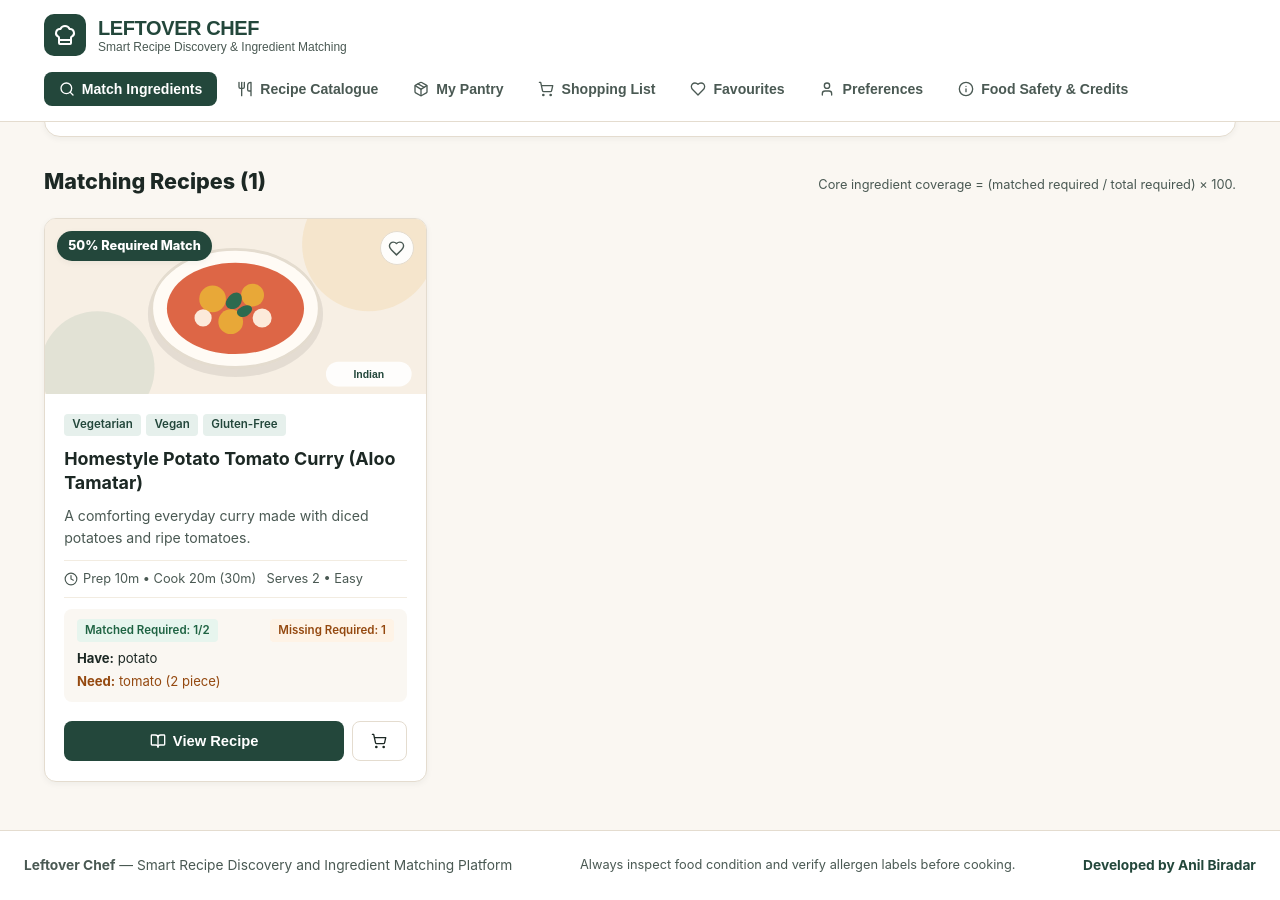
Test: Leftover Chef Frontend Verification Suite (TC-53 to TC-60) › TC-56: Clearly displays matching and missing required ingredients on recipe cards and detail modal
(page scrolled)
Expected: the text "50% Required Match" is shown, [57,231,212,261]
Expected: the text "Matched Required: 1/2" is shown, [77,619,218,642]
Click the button "View Recipe" at (204, 741), box [64,721,344,761]
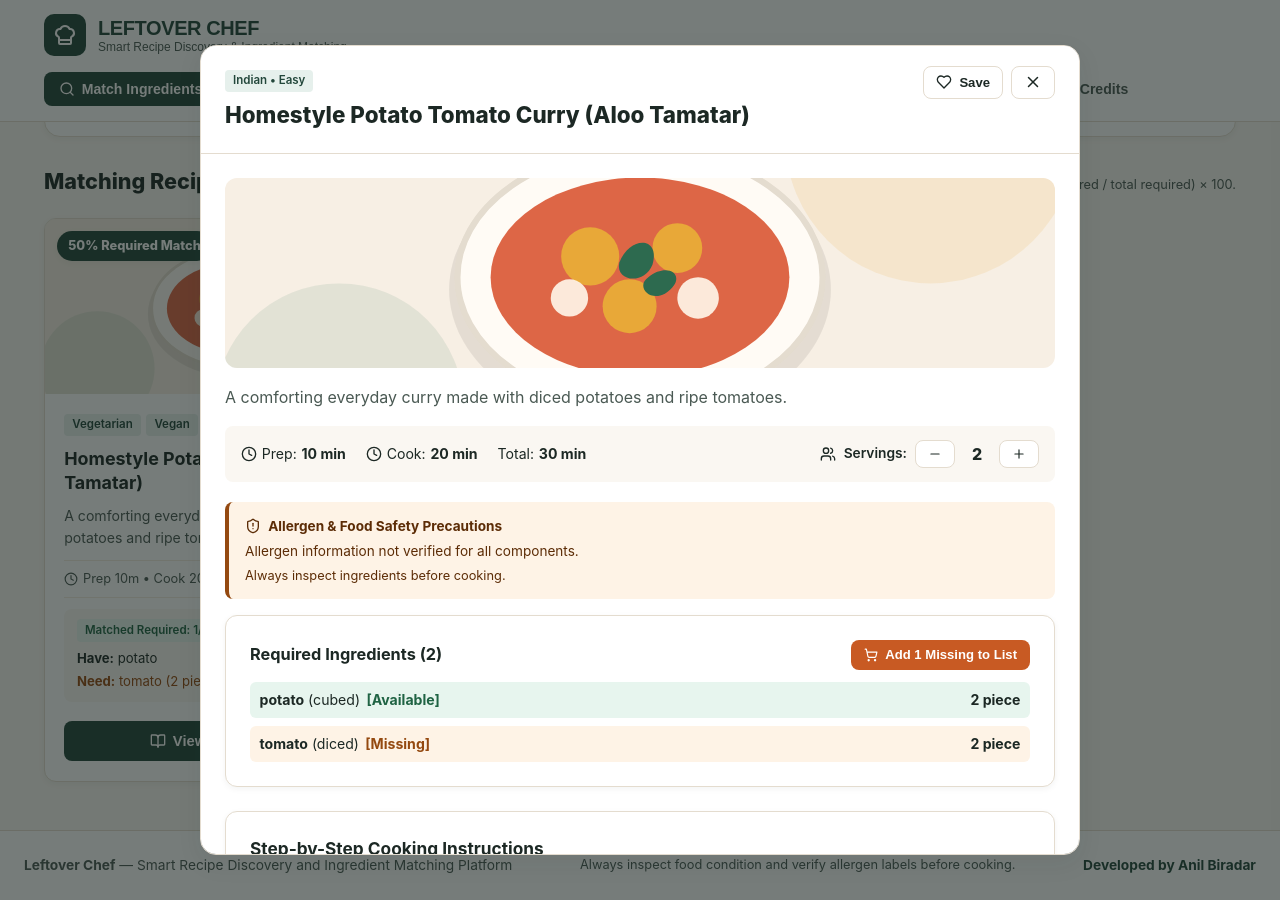
Expected: the dialog is shown
Expected: the text "[Available]" is shown, [366,691,440,708]
Expected: the text "[Missing]" is shown, [365,735,430,752]
